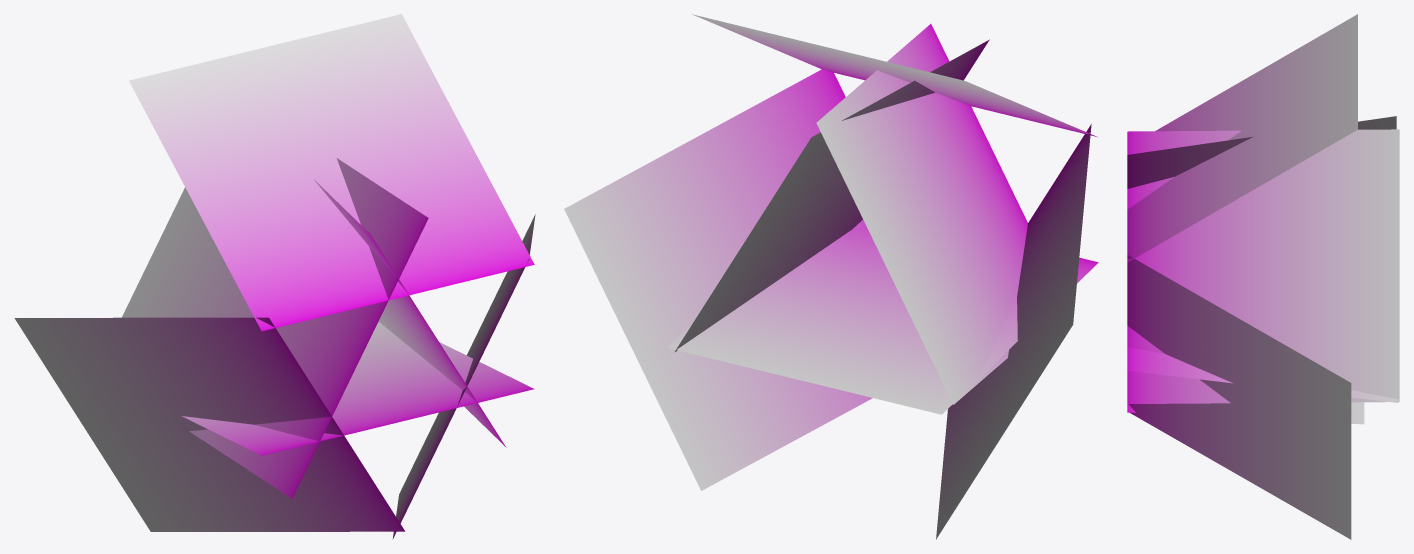
File: grass_set2.fbx
3 renders of one model, left to right at view 1: azimuth 30°, elevation 25°; view 2: azimuth 150°, elevation 25°; view 3: azimuth 270°, elevation 25°, orthographic. The views are drawn at different scales.
Parts seen in each view (by area): view 1: w5_grass_set2; view 2: w5_grass_set2; view 3: w5_grass_set2.
Part boxes in pixels (box(x1,y1,x2,y2)): w5_grass_set2: box(14, 14, 535, 539); w5_grass_set2: box(564, 14, 1098, 539); w5_grass_set2: box(1127, 14, 1399, 539).
Bounding box in the file's own units: 0.2259 × 0.1195 × 0.1999.
